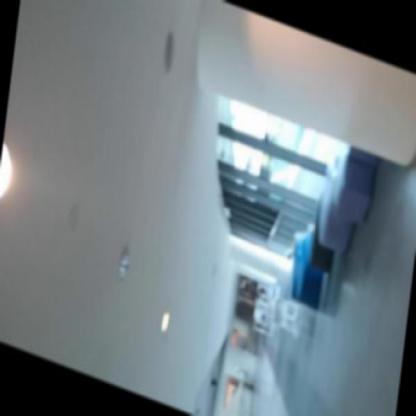light_on: (148, 294, 184, 353), (0, 138, 25, 216)
